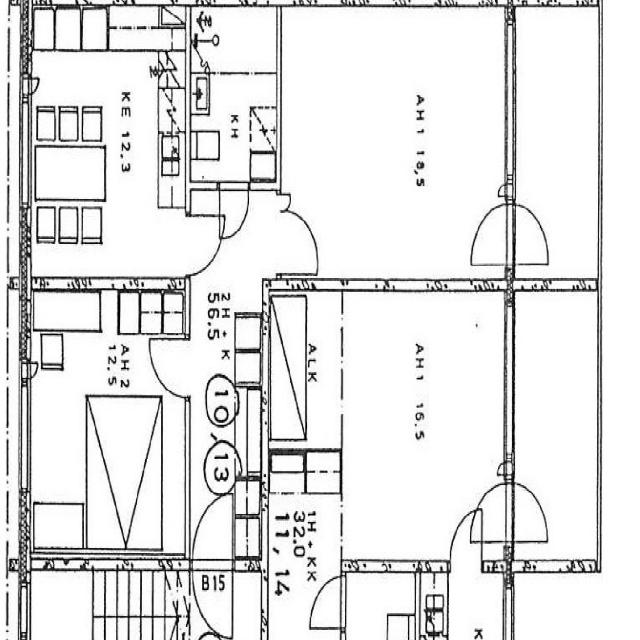door: (192, 493, 232, 571), (192, 559, 232, 636), (467, 203, 515, 264), (505, 203, 553, 264), (276, 210, 318, 274), (185, 216, 226, 276), (150, 339, 190, 396), (220, 183, 248, 237), (276, 193, 290, 210)
